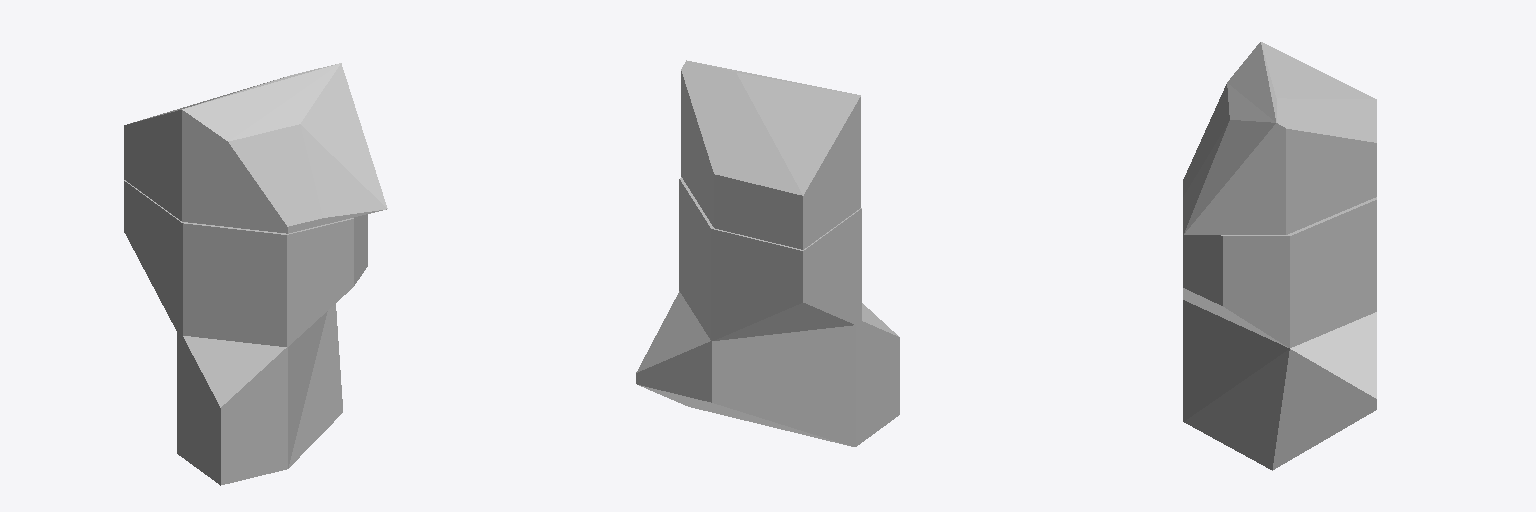
The model's file is gem.obj.
The picture shows the model from 3 angles: view 1: azimuth 30°, elevation 25°; view 2: azimuth 150°, elevation 25°; view 3: azimuth 270°, elevation 25°; orthographic projection.
Visible parts, largest first — view 1: Cube; view 2: Cube; view 3: Cube.
Boxes of the visible parts, <box> form: Cube: <box>124,63,387,485</box>; Cube: <box>636,60,899,446</box>; Cube: <box>1183,42,1376,470</box>.
Size of the model in its own units: 2 by 3.98 by 2.